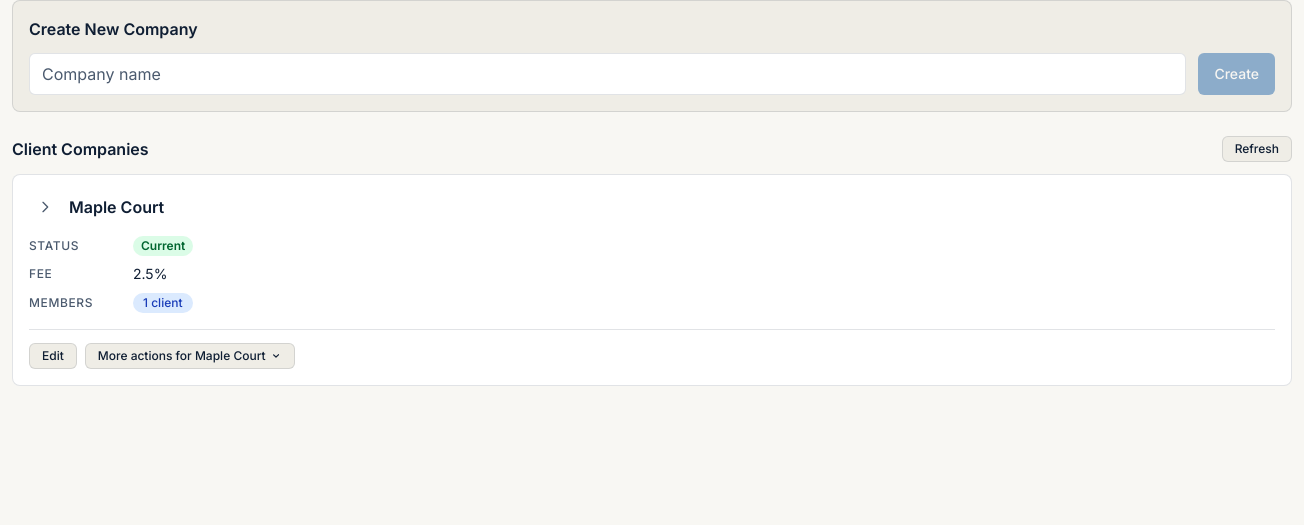
Test: GroupPanel on phones › renders companies as cards and expands the member list inside the card
Check: the heading "Maple Court" is shown, box [69,197,164,217]
Check: the text "2.5%" is shown, box [133,265,167,282]
Click the button named "Expand Maple Court" at (45, 207), box [29,191,61,223]
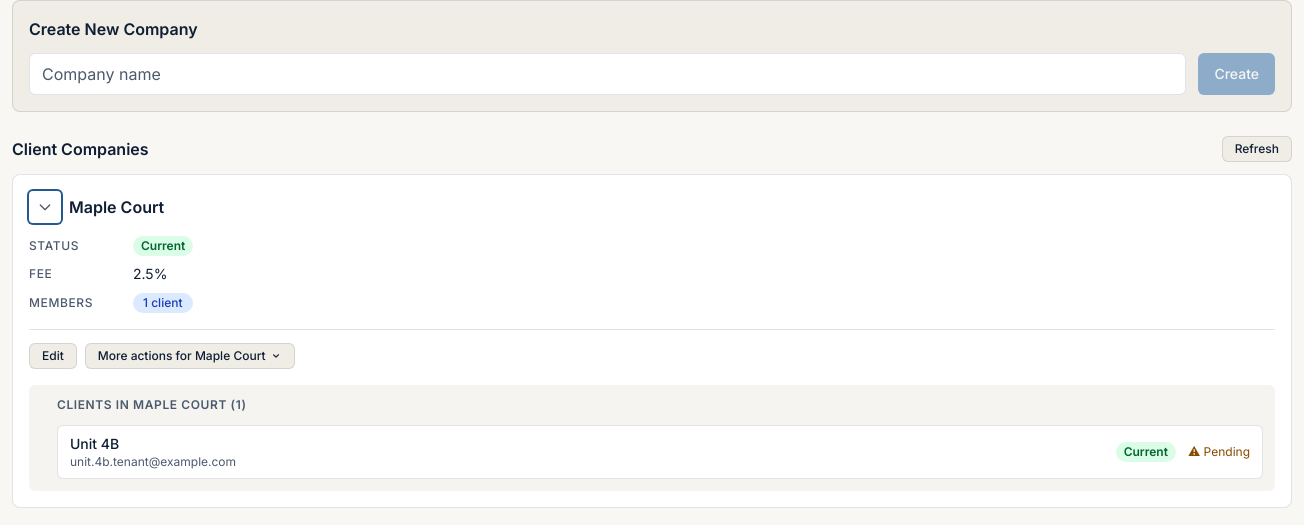
Check: the button named "Collapse Maple Court" is expanded, box [29,191,61,223]
